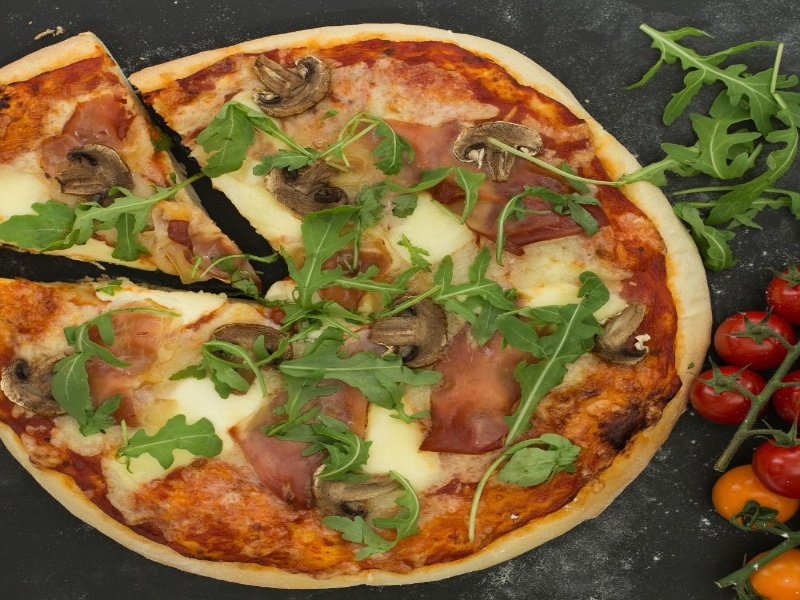champignon: (260, 151, 361, 226), (446, 115, 550, 186), (49, 141, 152, 209), (368, 288, 450, 373), (250, 51, 340, 121), (1, 346, 65, 423), (590, 301, 655, 369)
